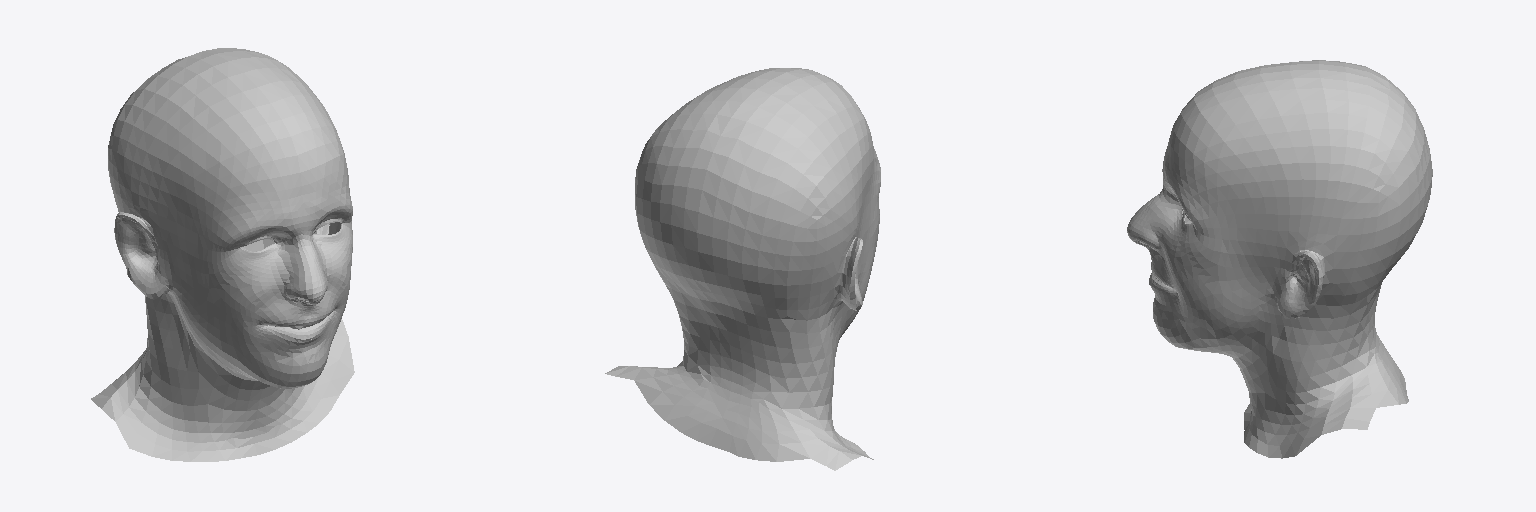
File: 03_RefineMesh.obj
3 views of the same model, side by side, from view 1: azimuth 30°, elevation 25°; view 2: azimuth 150°, elevation 25°; view 3: azimuth 270°, elevation 25° (orthographic).
Visible parts, largest first — view 1: CC_Base_Body; view 2: CC_Base_Body; view 3: CC_Base_Body.
Part boxes in pixels (bbox=[...]): CC_Base_Body: bbox=[91, 48, 354, 461]; CC_Base_Body: bbox=[605, 68, 880, 470]; CC_Base_Body: bbox=[1127, 60, 1432, 458].
Bounding box in the file's own units: 164 × 238 × 181.